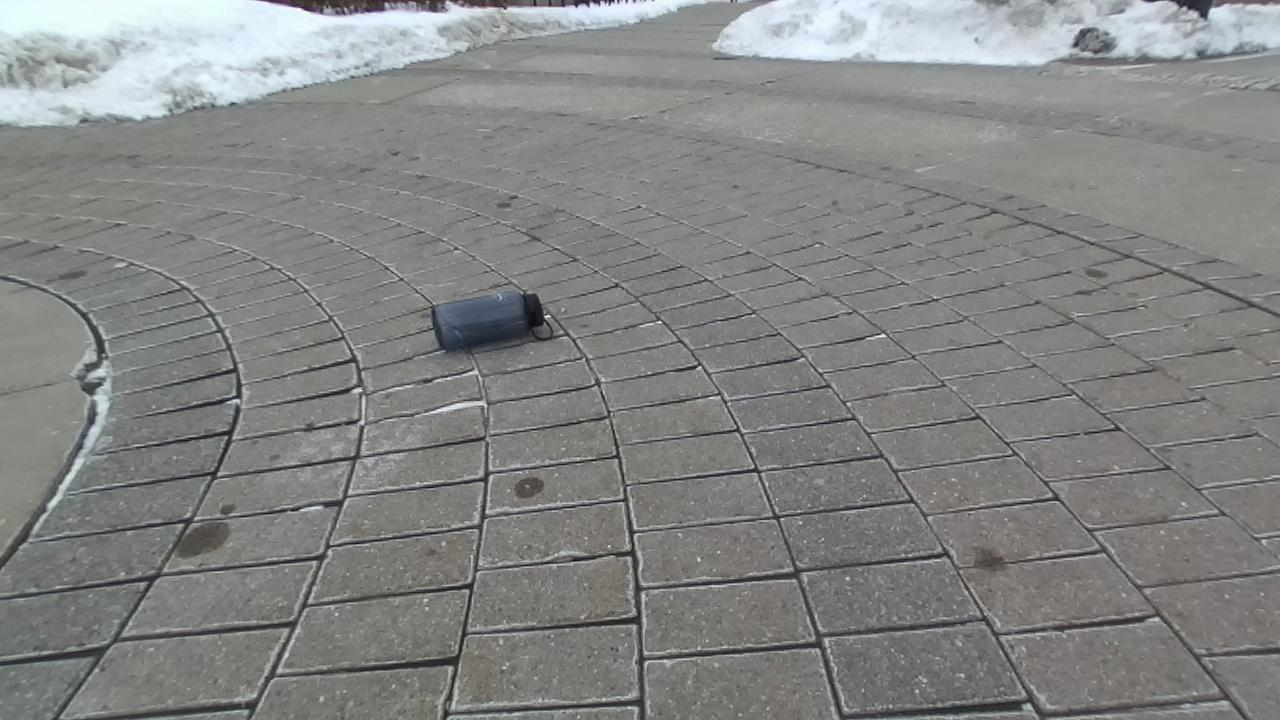bottle: (431, 292, 553, 350)
